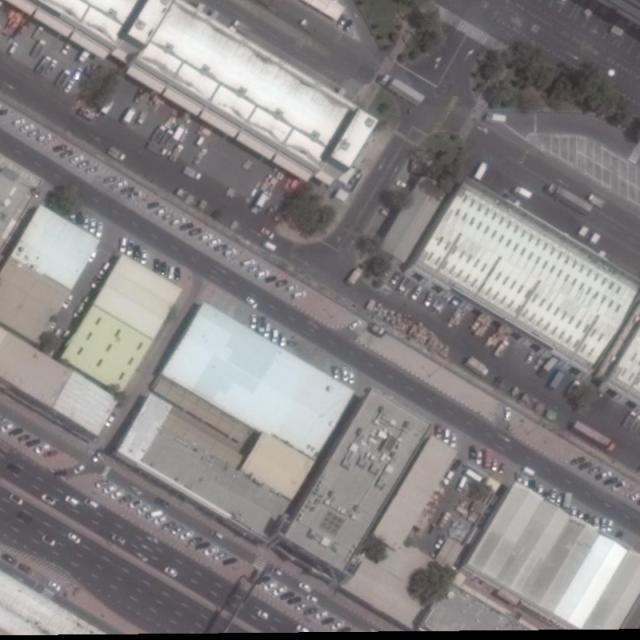vehicle: (570, 420, 618, 453), (379, 74, 428, 105), (549, 183, 594, 215), (463, 355, 492, 378), (34, 54, 52, 77), (345, 266, 364, 286), (120, 106, 138, 126), (589, 193, 609, 210), (473, 161, 490, 181), (182, 166, 203, 182), (29, 40, 46, 59), (108, 147, 128, 163), (43, 58, 59, 77), (494, 340, 510, 358), (56, 68, 70, 88), (258, 226, 277, 240), (32, 25, 47, 42), (9, 492, 26, 507), (486, 112, 507, 124), (109, 533, 128, 546), (515, 185, 534, 198), (243, 294, 259, 309), (39, 492, 56, 506), (518, 465, 537, 477), (2, 552, 18, 566), (90, 274, 104, 290), (410, 285, 423, 302), (40, 534, 58, 546), (68, 532, 83, 546), (85, 496, 100, 510), (475, 448, 486, 466), (47, 580, 62, 593), (163, 566, 179, 578), (34, 444, 53, 454), (17, 513, 34, 524), (63, 495, 80, 506), (90, 450, 103, 464), (61, 42, 74, 56), (7, 41, 19, 56), (15, 434, 33, 444), (74, 66, 86, 81), (100, 262, 112, 277), (291, 290, 306, 302), (298, 582, 314, 593), (279, 590, 295, 601), (195, 541, 211, 552), (137, 505, 153, 516), (434, 535, 445, 551), (424, 292, 435, 308), (8, 428, 25, 438), (147, 510, 164, 520), (240, 258, 257, 268), (321, 614, 335, 626), (396, 179, 410, 191), (63, 294, 75, 308), (60, 148, 75, 159), (18, 563, 33, 574), (223, 246, 238, 257), (255, 269, 270, 280), (570, 456, 585, 467), (26, 438, 42, 448), (330, 621, 346, 631), (303, 606, 319, 616), (170, 216, 186, 226), (206, 238, 222, 248), (589, 465, 602, 477), (104, 415, 115, 429), (214, 551, 228, 562), (205, 546, 219, 557), (180, 530, 194, 541), (391, 272, 402, 286), (155, 206, 169, 217), (578, 460, 592, 471), (442, 471, 453, 485), (273, 586, 290, 595), (38, 133, 53, 143), (19, 124, 34, 134), (114, 179, 129, 189), (214, 243, 229, 253), (611, 481, 626, 491), (120, 494, 132, 506), (97, 222, 105, 240), (78, 50, 90, 62), (190, 535, 203, 546), (164, 520, 177, 531), (63, 80, 74, 93), (264, 274, 277, 285), (88, 249, 99, 262), (348, 319, 361, 330), (285, 282, 298, 293), (343, 20, 354, 33), (110, 491, 124, 501), (288, 596, 302, 606), (256, 609, 270, 619), (153, 516, 167, 526), (70, 154, 84, 164), (276, 278, 290, 288), (597, 471, 611, 481), (526, 350, 536, 364), (198, 234, 215, 242), (271, 326, 279, 343), (134, 245, 142, 262), (314, 610, 329, 619), (222, 557, 237, 566), (593, 517, 602, 532), (179, 222, 194, 231), (188, 227, 203, 236), (457, 475, 466, 490), (78, 159, 90, 170), (73, 464, 86, 474), (130, 500, 143, 510), (249, 264, 262, 274), (265, 322, 273, 338), (90, 218, 98, 234), (82, 214, 90, 230), (102, 485, 116, 494), (96, 480, 110, 489), (126, 238, 133, 256), (141, 248, 148, 266), (262, 242, 276, 251), (263, 582, 278, 590), (444, 430, 452, 445), (550, 490, 558, 505), (556, 494, 564, 509), (172, 526, 184, 536), (250, 315, 258, 330), (280, 333, 288, 348), (159, 261, 167, 276), (505, 407, 512, 424), (1, 424, 15, 432), (45, 450, 59, 458), (295, 603, 309, 611), (606, 520, 614, 534), (450, 434, 458, 448), (347, 369, 355, 383), (342, 366, 349, 382), (259, 317, 266, 333), (120, 238, 127, 254), (147, 200, 158, 210), (435, 425, 442, 440), (492, 457, 499, 472), (121, 186, 134, 194), (128, 190, 141, 198), (86, 166, 99, 174), (103, 175, 116, 183), (29, 129, 40, 138), (14, 118, 26, 126), (54, 144, 66, 152), (306, 594, 318, 602), (529, 480, 537, 492), (169, 266, 175, 282), (338, 15, 346, 27), (176, 266, 182, 281), (570, 507, 578, 518), (470, 445, 475, 462), (297, 625, 309, 632), (1, 416, 9, 426), (632, 491, 640, 501), (498, 463, 505, 474), (154, 258, 159, 273), (538, 486, 544, 498), (333, 367, 339, 379), (602, 519, 607, 533), (516, 474, 522, 485), (579, 513, 585, 524), (585, 513, 590, 526), (1, 108, 8, 117)
